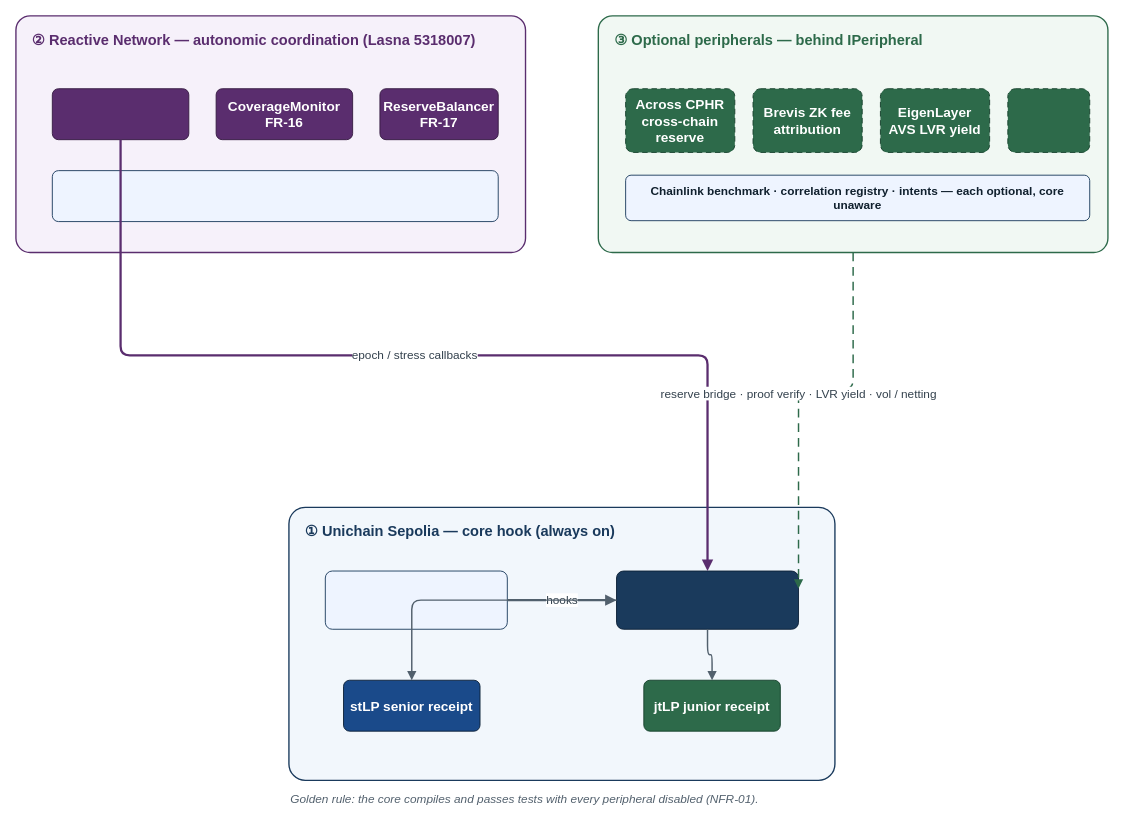
This 1125x824 diagram has some shape labels left out. Here are the shapes that lost their labels. From the top down, the centre of each, then its label:
the point at 120,114: EpochSettler FR-15
the point at 1048,120: Stylus match + ML vol
the point at 274,196: subscribe hook event logs (topic_0) → react() → schedule callback
the point at 415,599: PoolManager v4 (canonical Uniswap v4)
the point at 707,599: StratumHook core tranche logic
